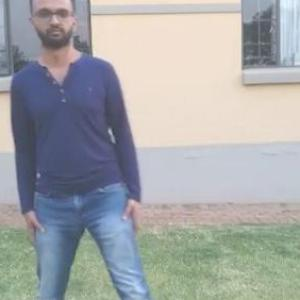follow: (18, 0, 132, 299)
